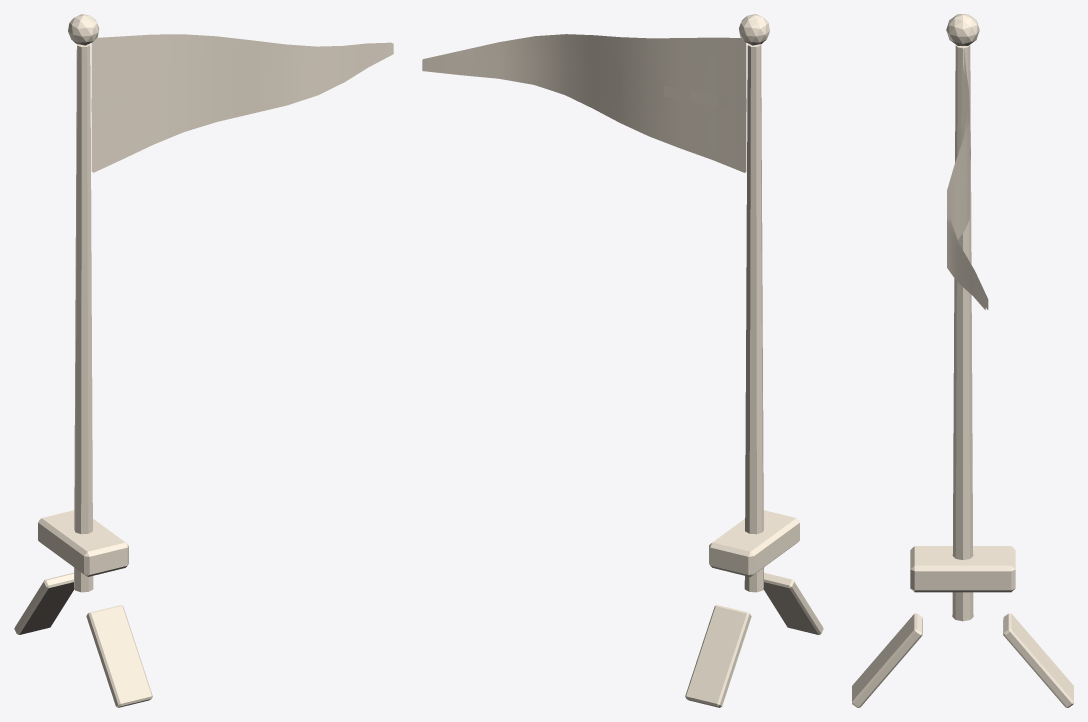
Rendered from SM_VK_Banner_Roof.fbx.
3 renders of one model, left to right at view 1: azimuth 30°, elevation 25°; view 2: azimuth 150°, elevation 25°; view 3: azimuth 270°, elevation 25°, orthographic. The views are drawn at different scales.
Visible parts, largest first — view 1: SM_VK_Banner_Roof.001; view 2: SM_VK_Banner_Roof.001; view 3: SM_VK_Banner_Roof.001.
Part boxes in pixels (x1,y1,x2,y2): SM_VK_Banner_Roof.001: (14, 14, 393, 707); SM_VK_Banner_Roof.001: (422, 14, 823, 707); SM_VK_Banner_Roof.001: (852, 14, 1073, 707).
Bounding box in the file's own units: 1.98 × 3.6 × 1.05.
